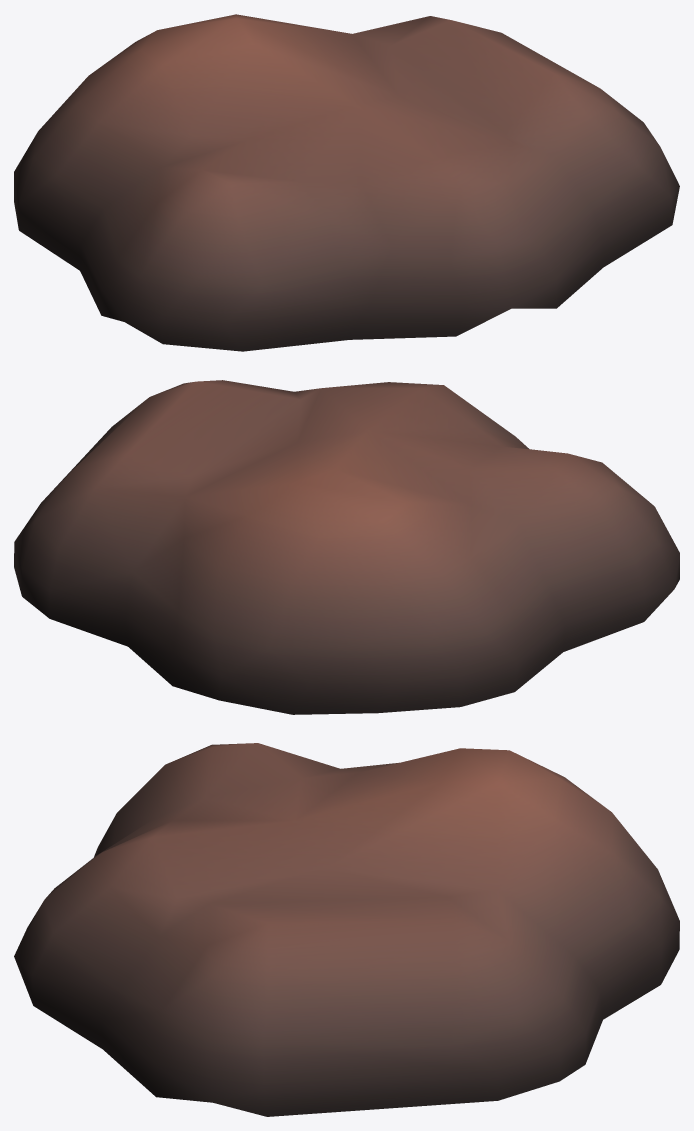
File: capsule_contents_008.glb
The picture shows the model from 3 angles, top to bottom: view 1: azimuth 30°, elevation 25°; view 2: azimuth 150°, elevation 25°; view 3: azimuth 270°, elevation 25°; orthographic projection. The views are drawn at different scales.
Parts seen in each view (by area): view 1: Сapsule_contents_008; view 2: Сapsule_contents_008; view 3: Сapsule_contents_008.
Boxes of the visible parts, <box> form: Сapsule_contents_008: <box>14,14,679,351</box>; Сapsule_contents_008: <box>14,380,679,714</box>; Сapsule_contents_008: <box>14,743,679,1116</box>.
Bounding box in the file's own units: 0.7341 × 0.2031 × 0.7029.
Materials: 1 (1 with a texture image).
